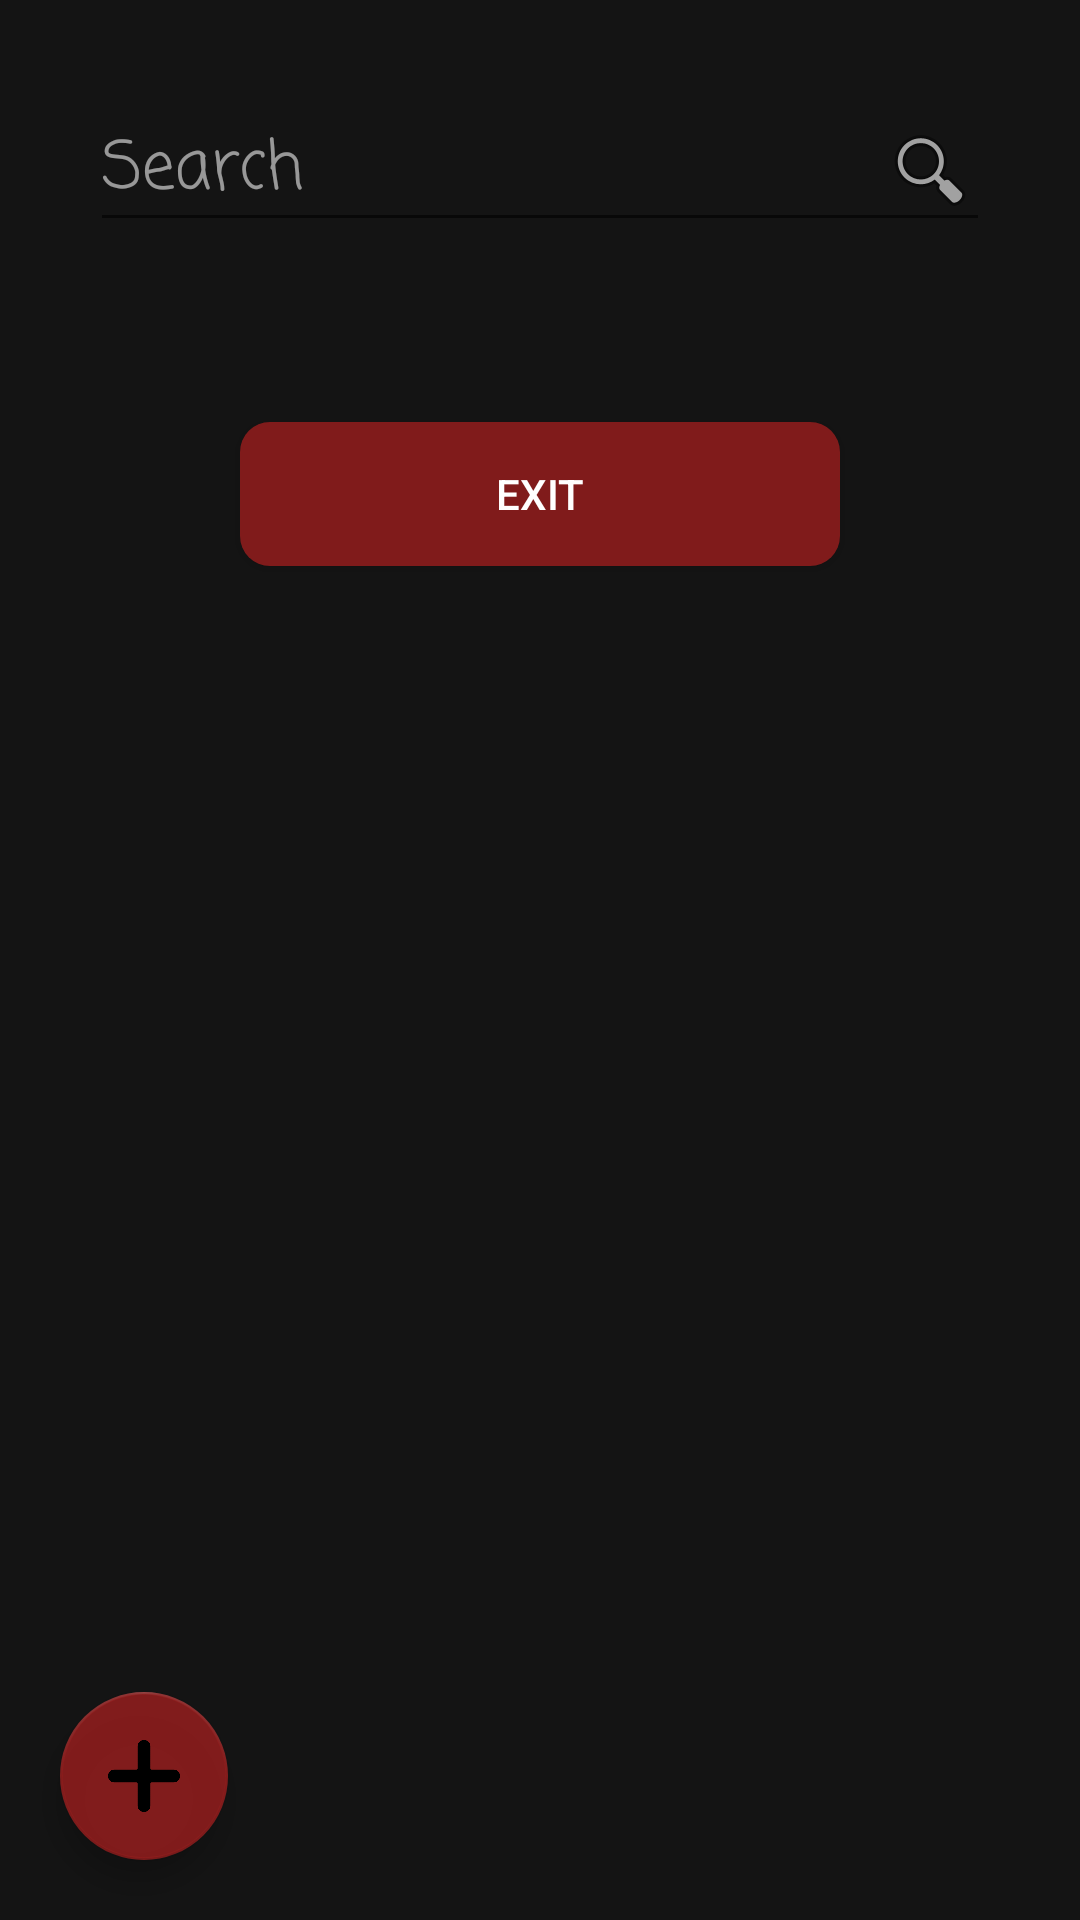

Icon click points for this 1080w x 1920h phone screenshot, format (x,y):
plus: (144,1776)
